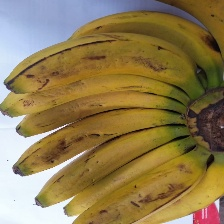banana: (0, 32, 196, 216)
